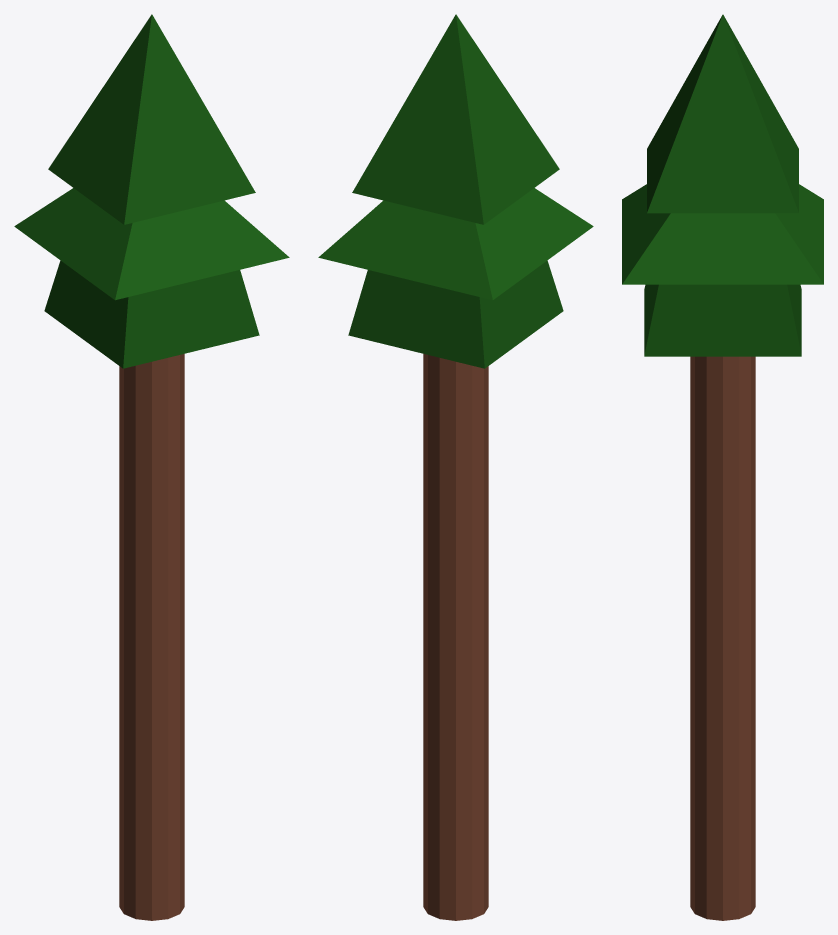
Rendered from Tree_15_autumn_vc.fbx.
3 renders of one model, left to right at view 1: azimuth 30°, elevation 25°; view 2: azimuth 150°, elevation 25°; view 3: azimuth 270°, elevation 25°, orthographic.
Visible parts, largest first — view 1: Tree_15_autumn_vc; view 2: Tree_15_autumn_vc; view 3: Tree_15_autumn_vc.
Boxes of the visible parts, x1,y1,x2,y2 form: Tree_15_autumn_vc: (14,14,289,920); Tree_15_autumn_vc: (318,14,593,920); Tree_15_autumn_vc: (622,14,823,920).
Size of the model in its own units: 1.79 by 8.73 by 1.79.
